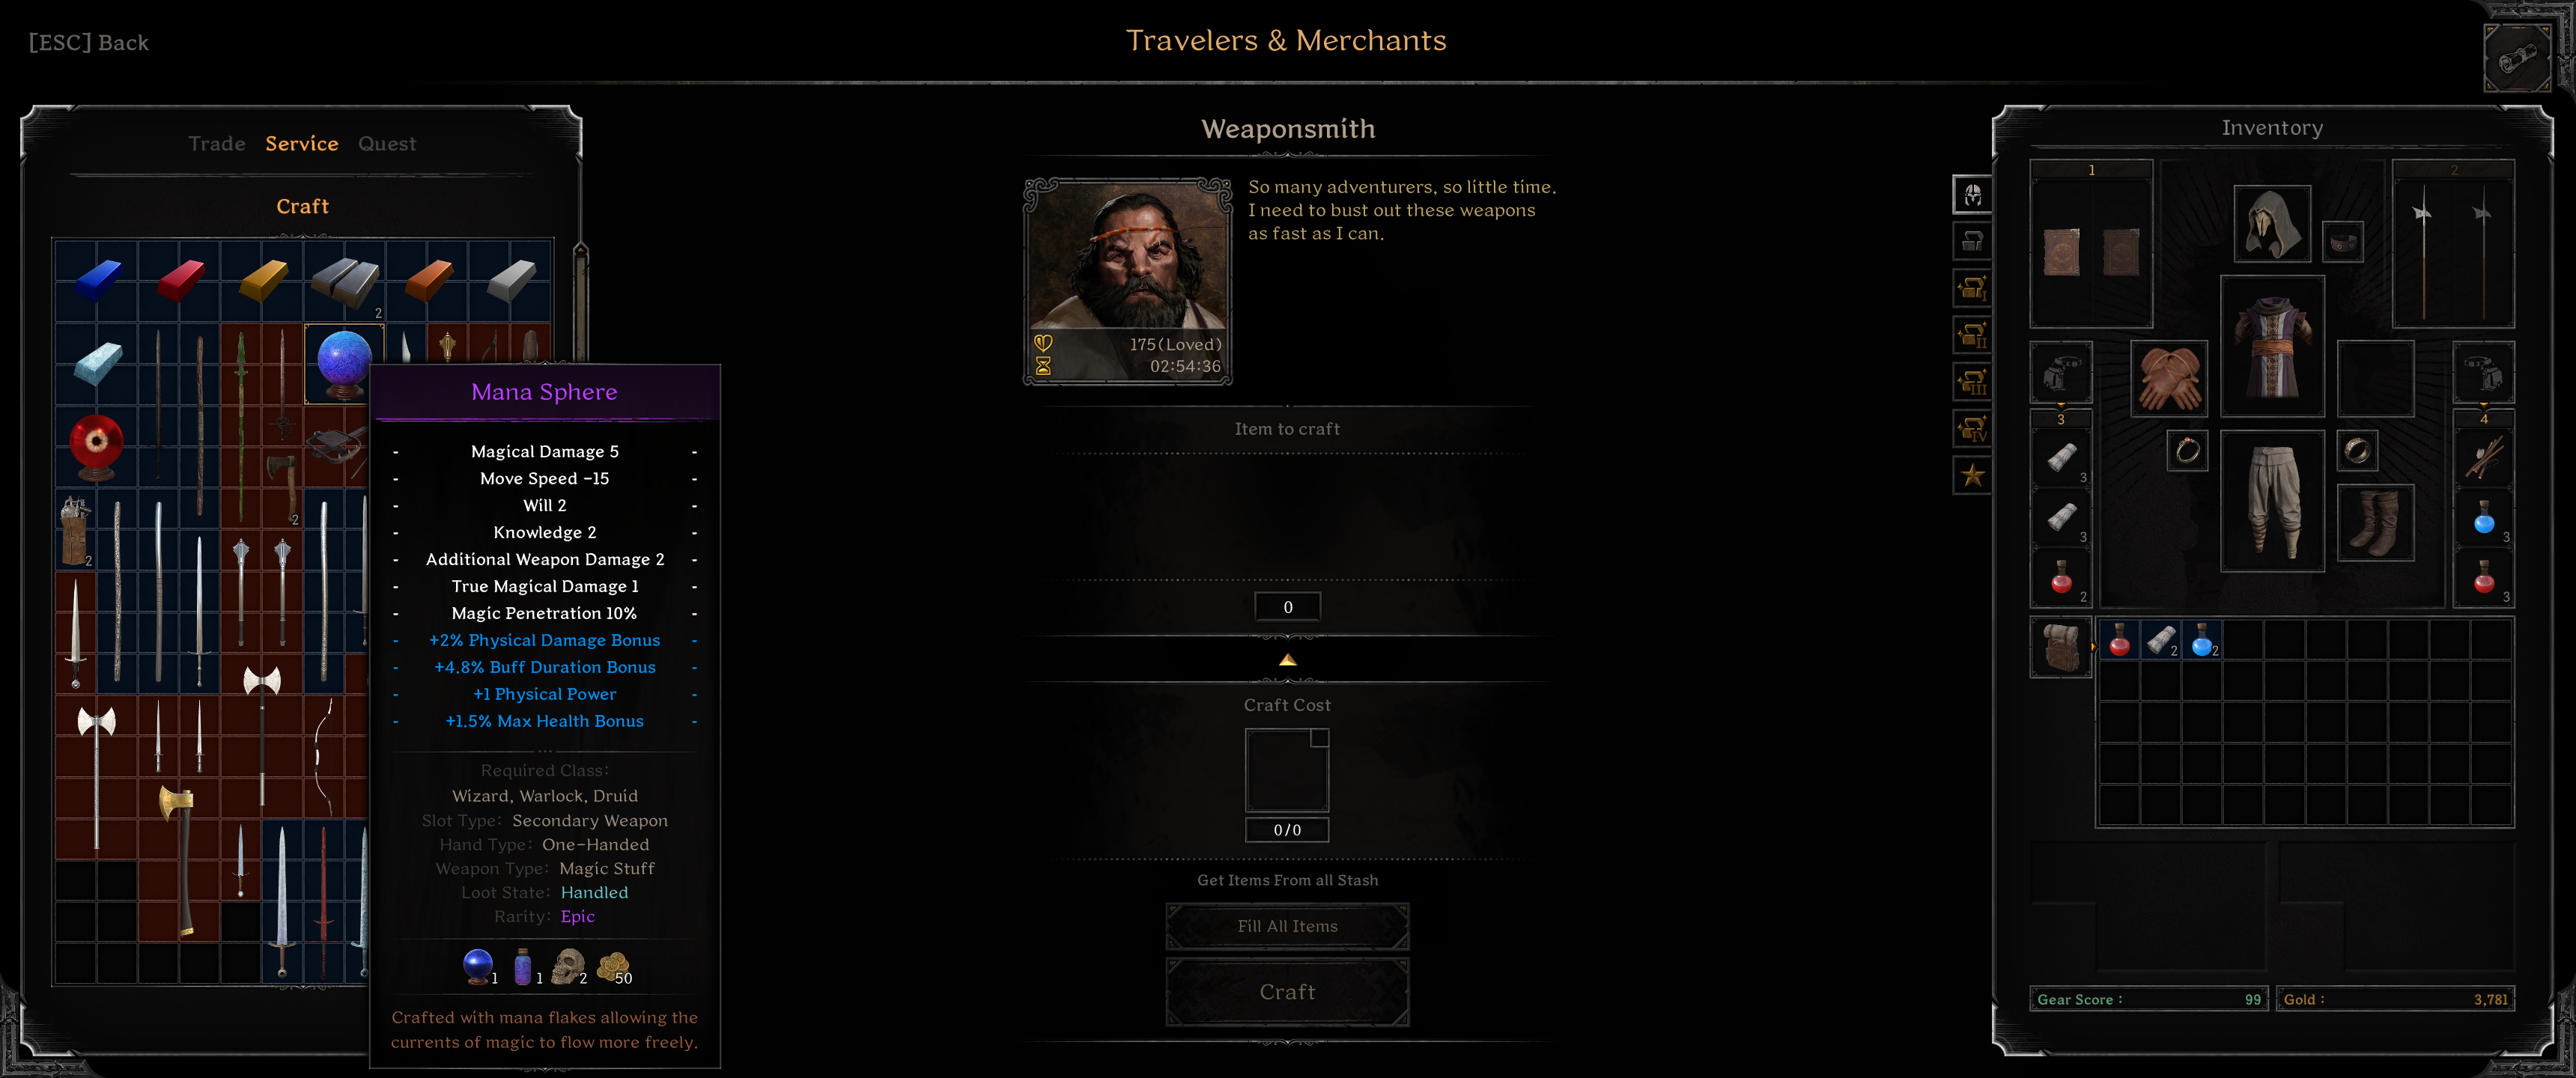Tooltip: (366, 362, 721, 1070)
